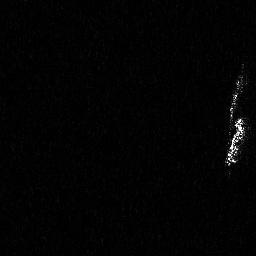ship: (223, 64, 249, 176)
